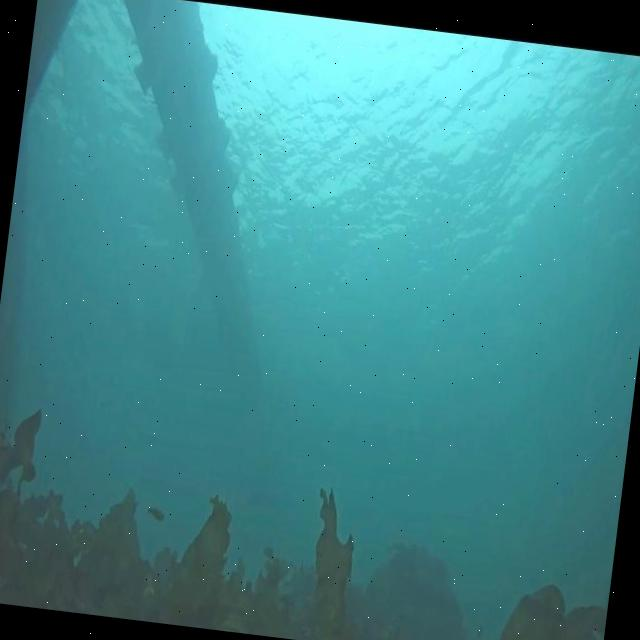fish: (145, 505, 167, 524)
